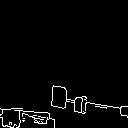cube: (49, 84, 68, 112), (70, 95, 89, 117)
